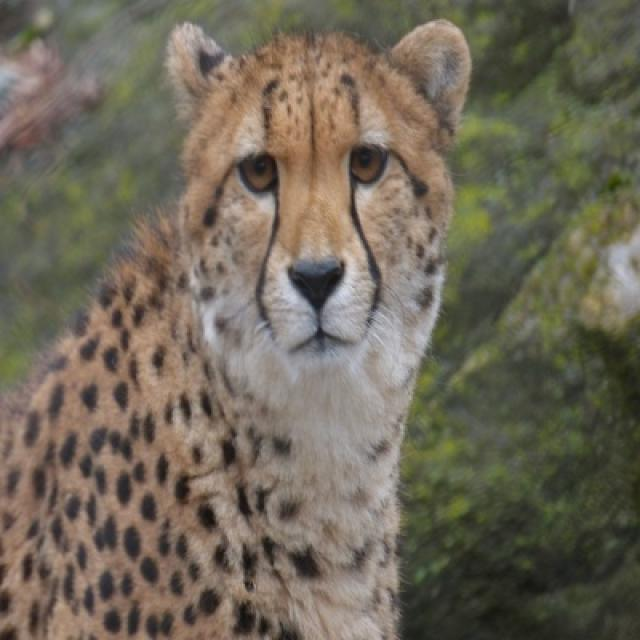Cheetah: (0, 19, 469, 638)
